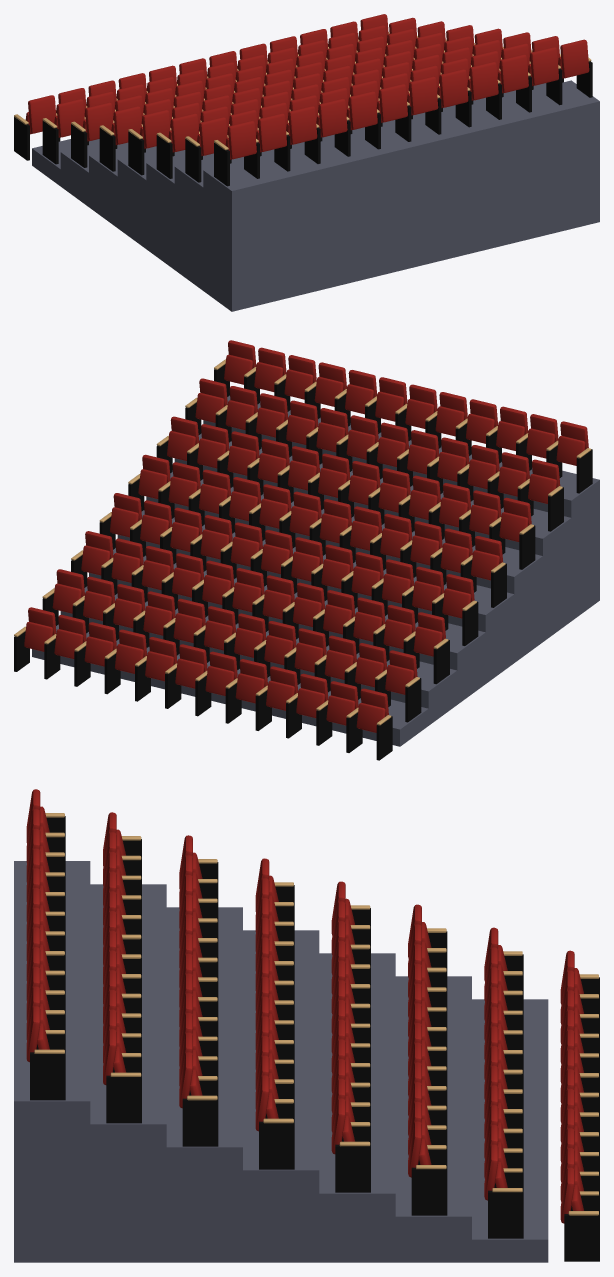
Rendered from venue.seat.block_12x8.glb.
The picture shows the model from 3 angles, top to bottom: view 1: azimuth 30°, elevation 25°; view 2: azimuth 150°, elevation 25°; view 3: azimuth 270°, elevation 25°; orthographic projection. The views are drawn at different scales.
Visible parts, largest first — view 1: main__carpet, main__fabric_red, main__plastic_black, main__glulam; view 2: main__fabric_red, main__plastic_black, main__carpet, main__glulam; view 3: main__carpet, main__fabric_red, main__plastic_black, main__glulam.
Boxes of the visible parts, <box> form: main__carpet: <box>32,80,599,311</box>; main__fabric_red: <box>25,14,589,159</box>; main__plastic_black: <box>14,61,592,186</box>; main__glulam: <box>14,32,591,150</box>; main__fabric_red: <box>24,340,588,732</box>; main__plastic_black: <box>14,364,592,760</box>; main__carpet: <box>32,395,599,746</box>; main__glulam: <box>14,359,591,725</box>; main__carpet: <box>14,861,548,1262</box>; main__fabric_red: <box>26,789,583,1223</box>; main__plastic_black: <box>30,816,599,1261</box>; main__glulam: <box>34,813,598,1215</box>.
Bounding box in the file's own units: 6.7 × 3.09 × 6.91.
